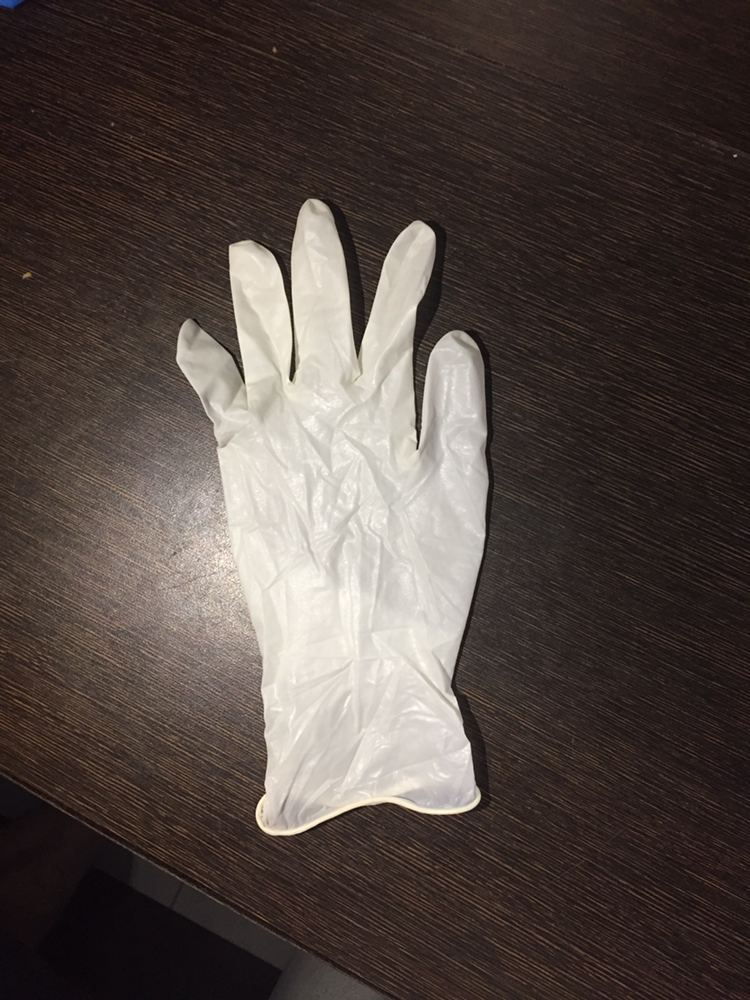glove: (126, 164, 565, 738)
